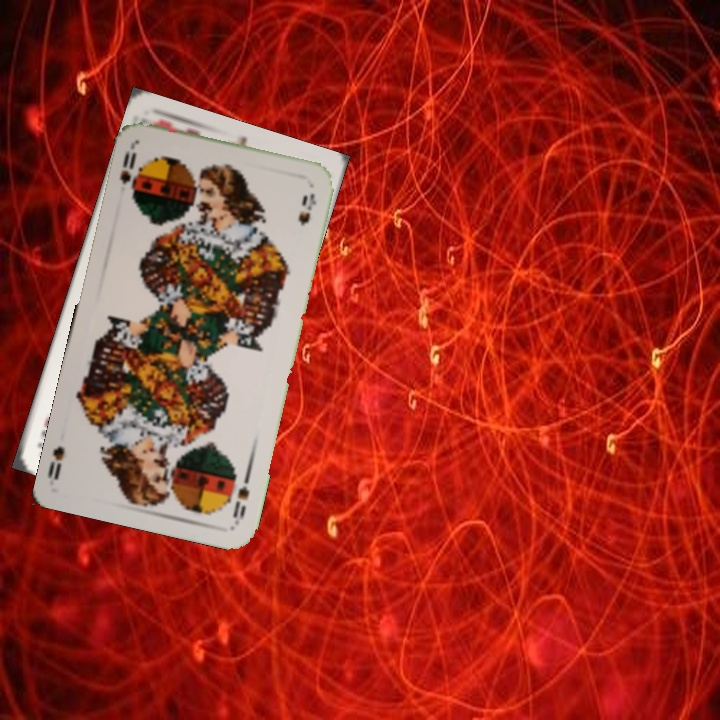SO: (116, 142, 142, 202), (229, 467, 253, 525)
